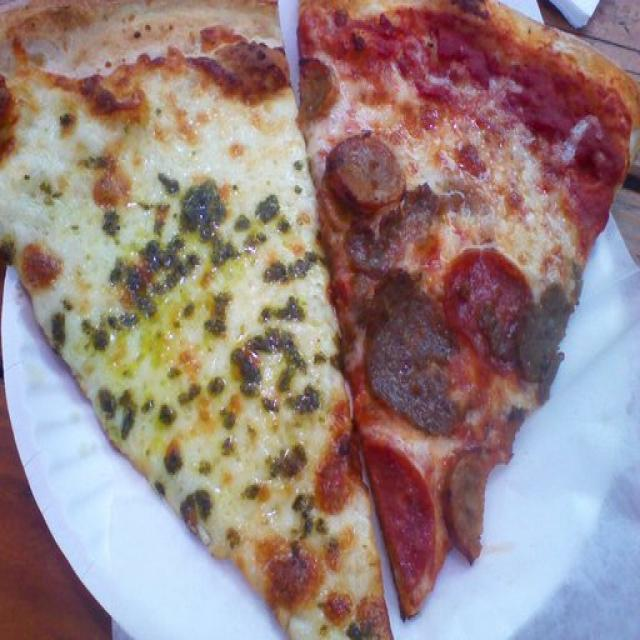Basil: (120, 240, 182, 315), (174, 175, 228, 245), (240, 336, 304, 394), (99, 386, 135, 434), (168, 486, 210, 519), (256, 297, 301, 324), (79, 312, 112, 345), (260, 265, 312, 284), (254, 191, 278, 224), (298, 492, 314, 537), (176, 383, 200, 409), (101, 208, 115, 248), (241, 232, 267, 253), (163, 175, 187, 197), (50, 313, 65, 345), (346, 620, 365, 640), (230, 213, 253, 228), (203, 381, 226, 395), (308, 351, 330, 365), (312, 510, 328, 529), (170, 365, 183, 380), (223, 435, 238, 447)
Pepperoni: (366, 272, 460, 426), (372, 430, 438, 592), (447, 252, 535, 336), (444, 446, 489, 569), (332, 132, 398, 208), (218, 406, 236, 429)
Pizza: (0, 3, 388, 637), (300, 2, 640, 617)
